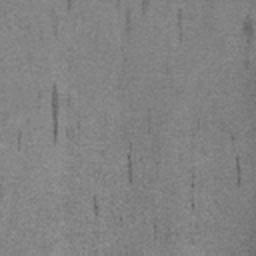Red iron sheet: (17, 83, 59, 151), (191, 154, 241, 209), (125, 0, 183, 42), (127, 108, 152, 184), (51, 0, 72, 38), (243, 15, 254, 69), (93, 195, 99, 216)
